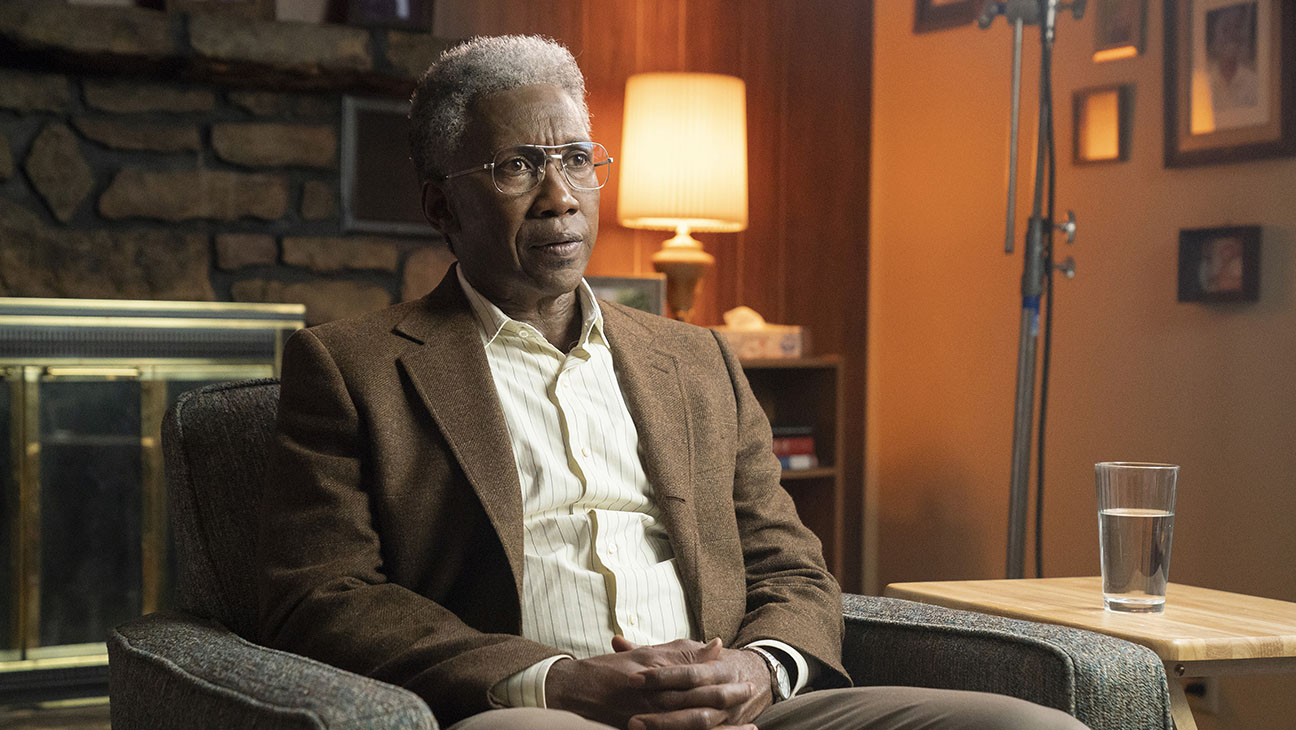person: (250, 27, 843, 730)
